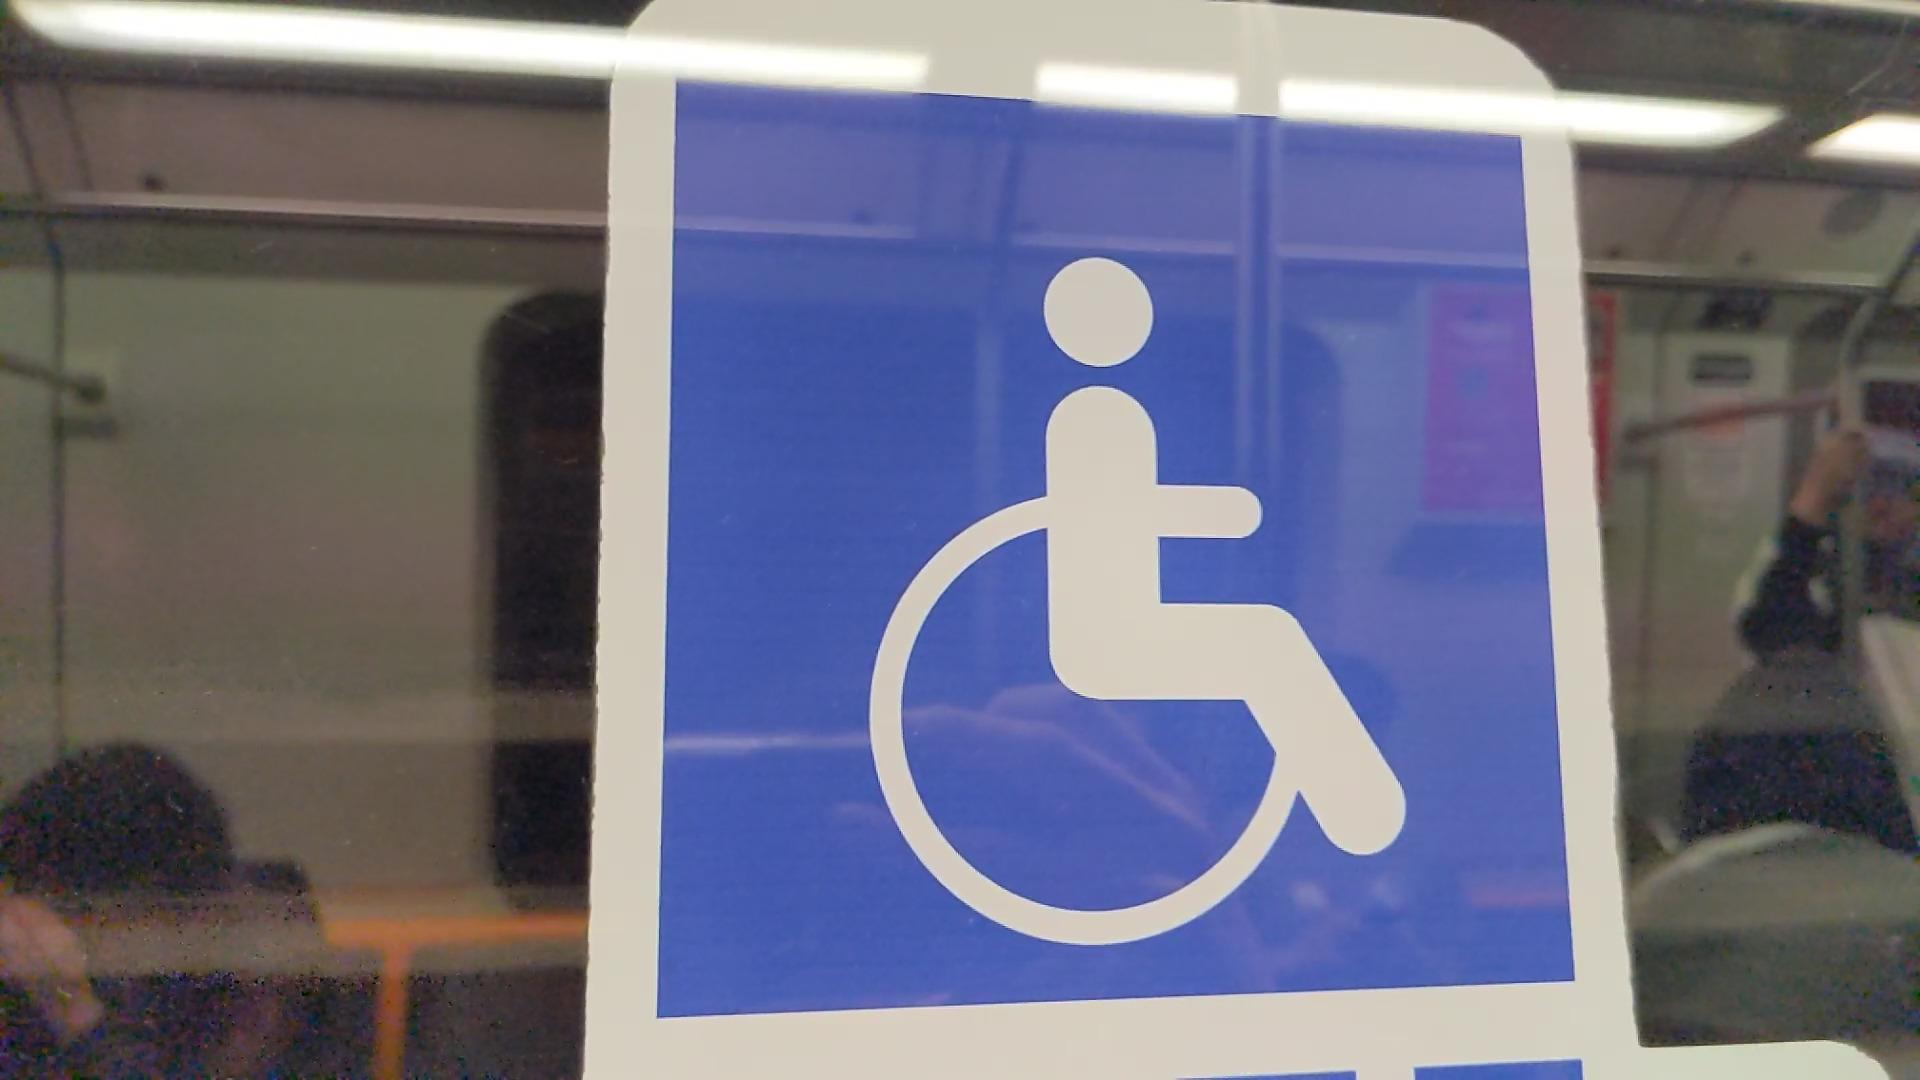handicapped symbol: (864, 253, 1412, 955)
